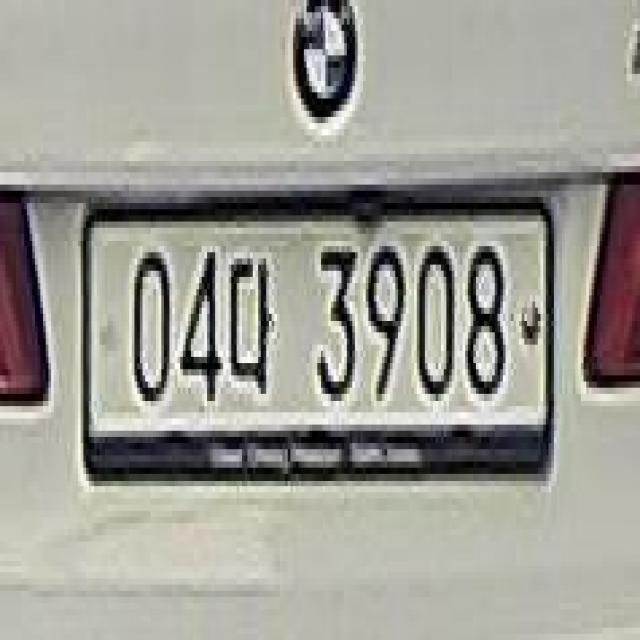illegal_plate: (81, 185, 554, 503)
